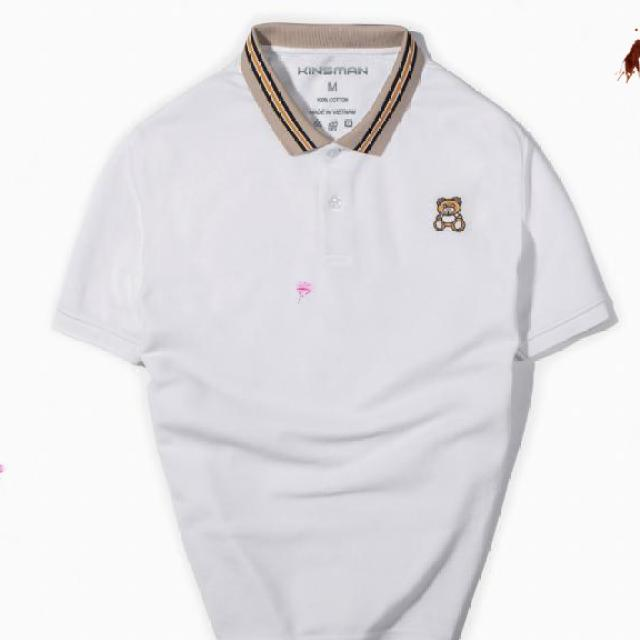stain: (293, 279, 317, 304)
